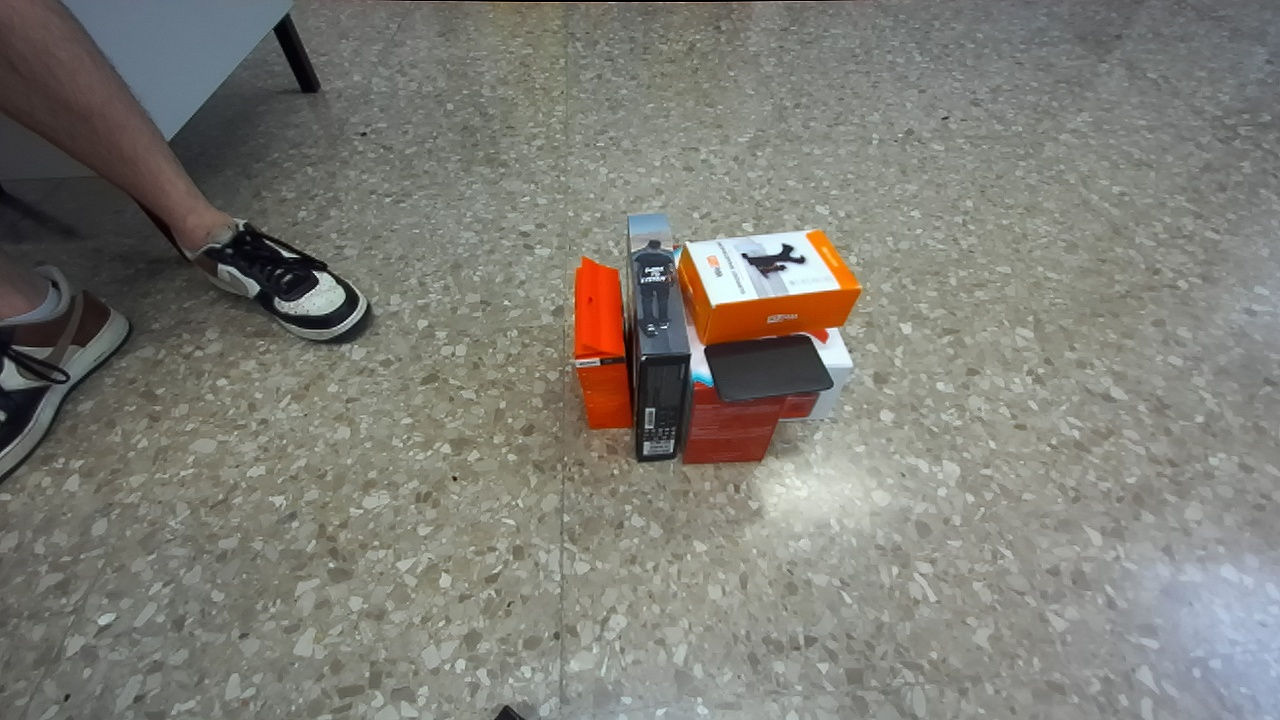caja_busbar: (673, 245, 784, 466)
caja_chasis: (626, 215, 690, 460)
caja_manguera: (573, 257, 631, 428)
caja_pcb: (679, 230, 860, 344)
caja_potencia: (762, 327, 853, 419)
